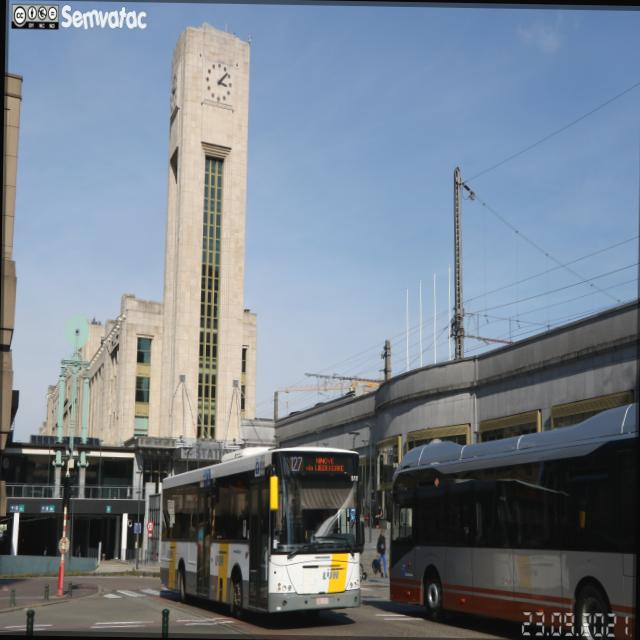bus-number: (288, 456, 304, 471)
